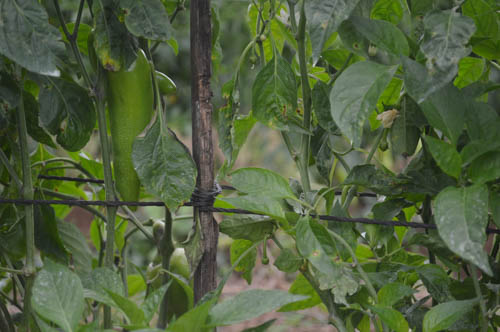ChiliPepper: (105, 54, 155, 210)
